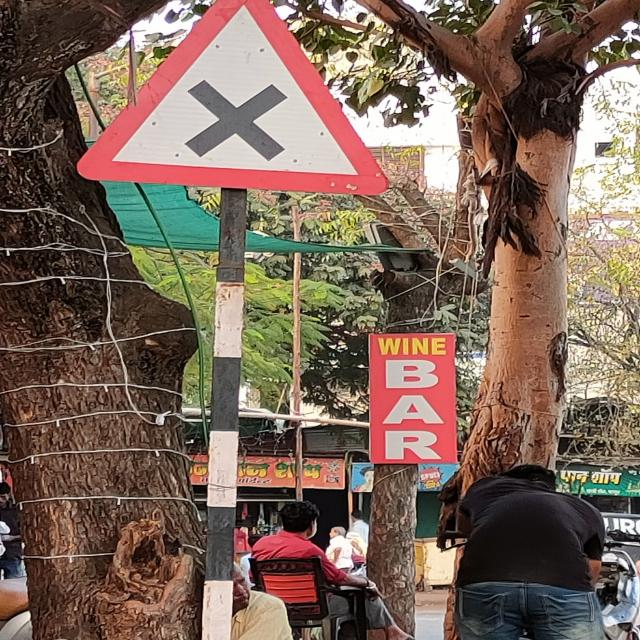CROSS_ROAD: (67, 2, 395, 193)
